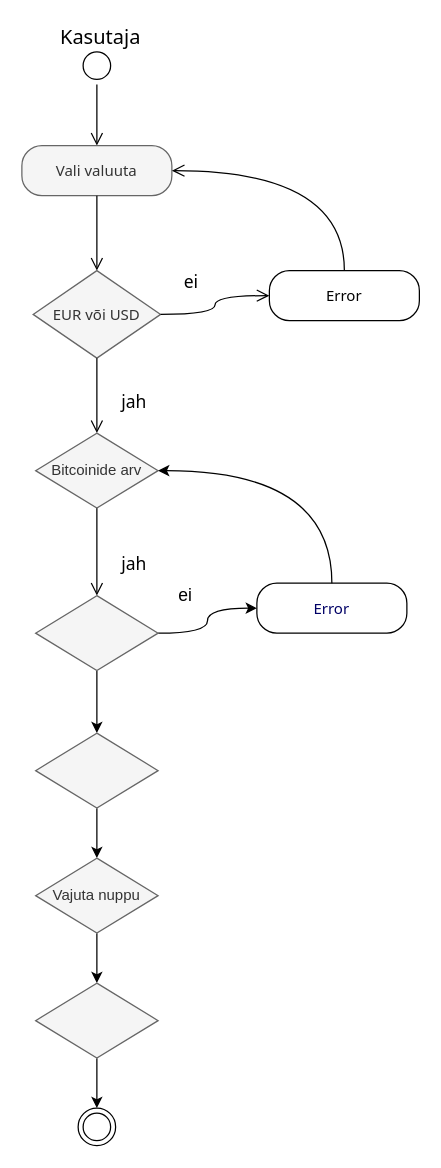
This 441x1168 diagram has some shape labels left out. Each missing label, with the box of its shape:
Saa tulemus: (34, 732, 158, 808)
Sisesta arv: (34, 594, 158, 671)
TULEMUS: (34, 982, 158, 1058)
